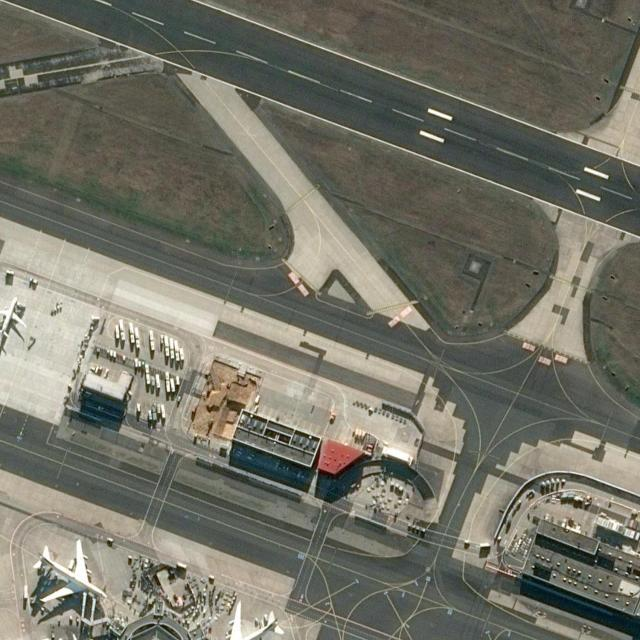Aircraft: (30, 541, 107, 605), (204, 602, 282, 640)
